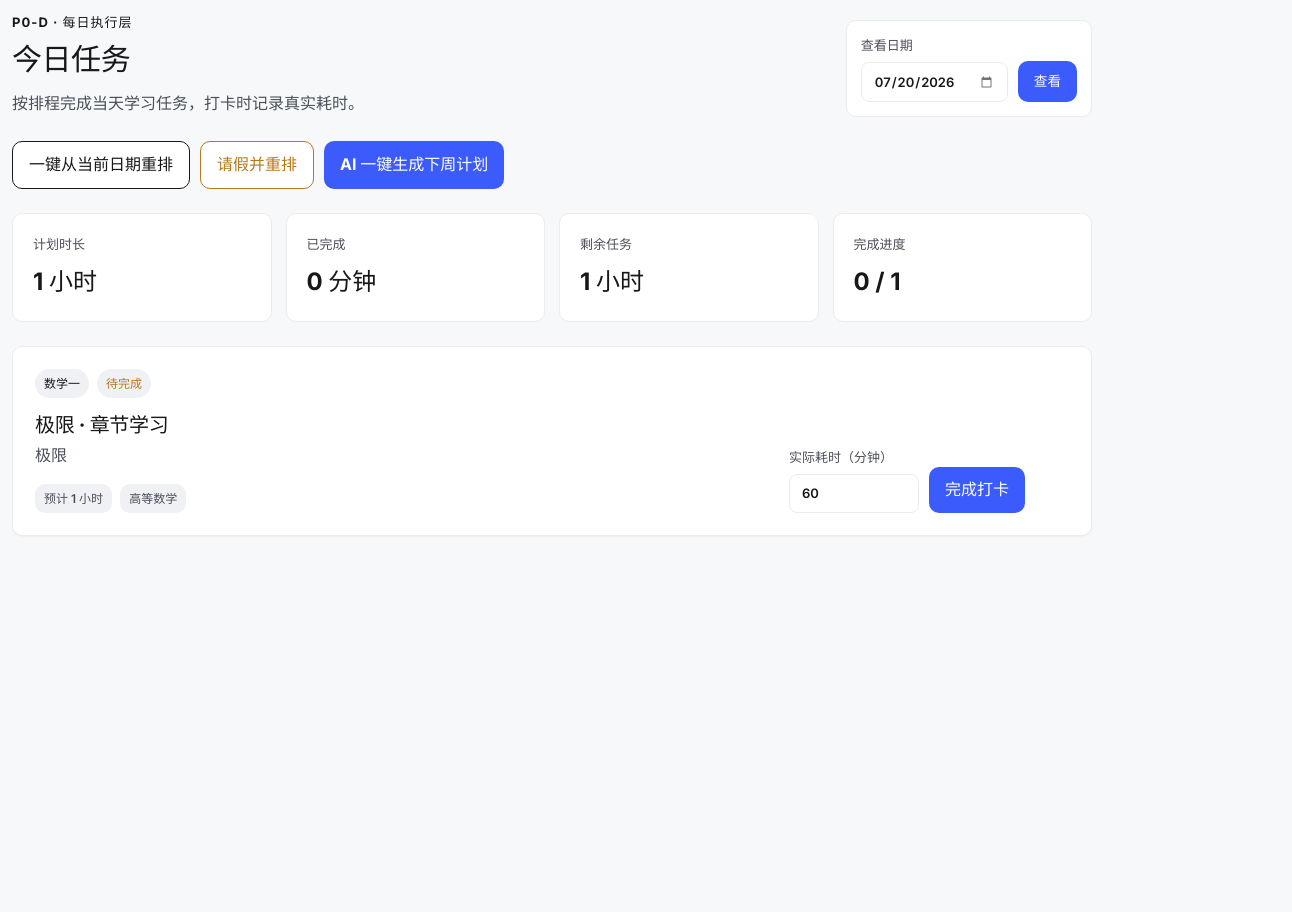
it: TodayView › generates an AI week plan and shows the advice card
Click the button with class "ai-week-button". click: (414, 165)
box: [324, 142, 504, 189]
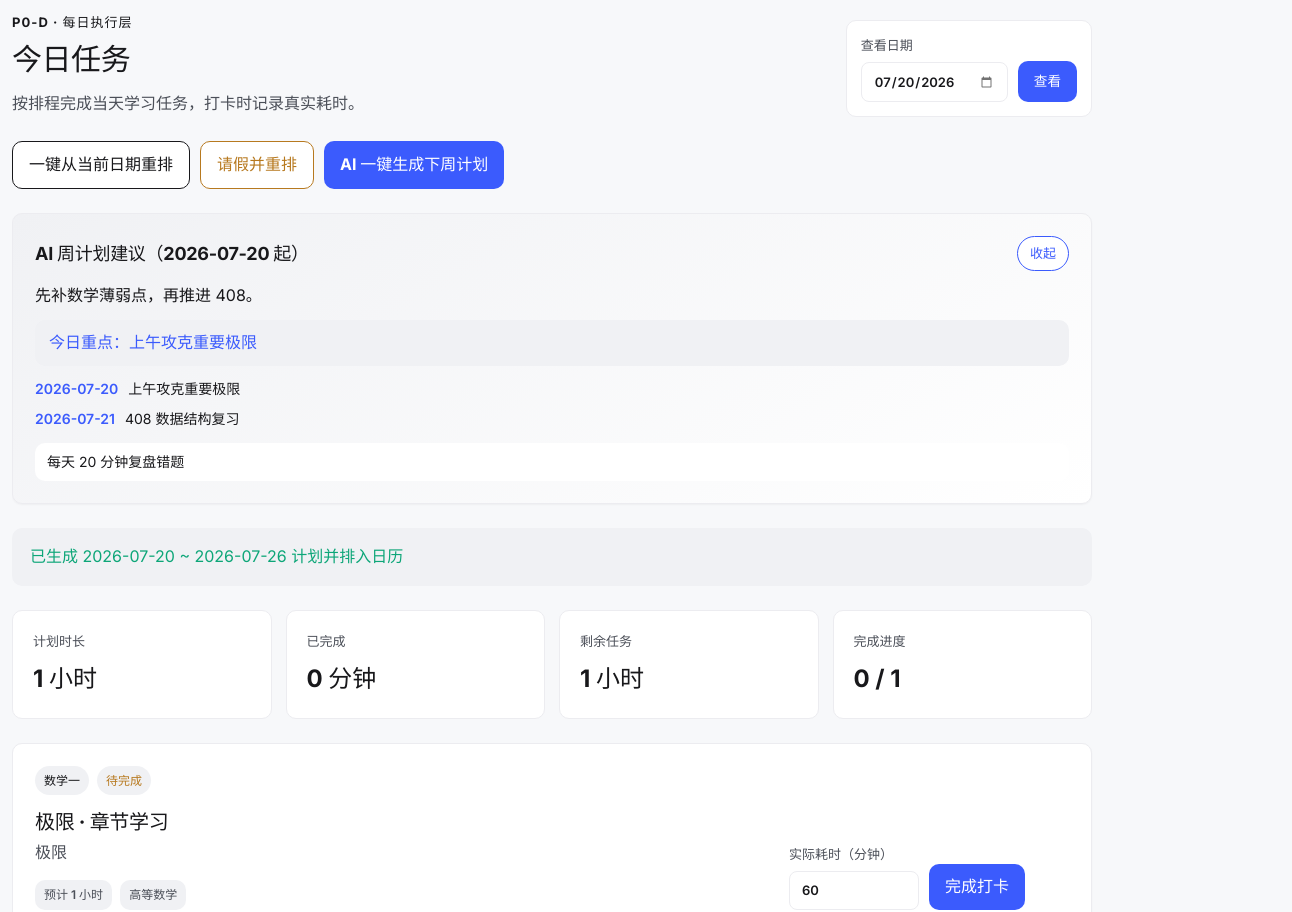
Check: the element with class "ai-advice-card" is shown, box [12, 213, 1092, 504]
Check: the text "先补数学薄弱点，再推进 408。" is shown, box [35, 285, 262, 305]
Check: the text "今日重点：上午攻克重要极限" is shown, box [35, 320, 1069, 366]
